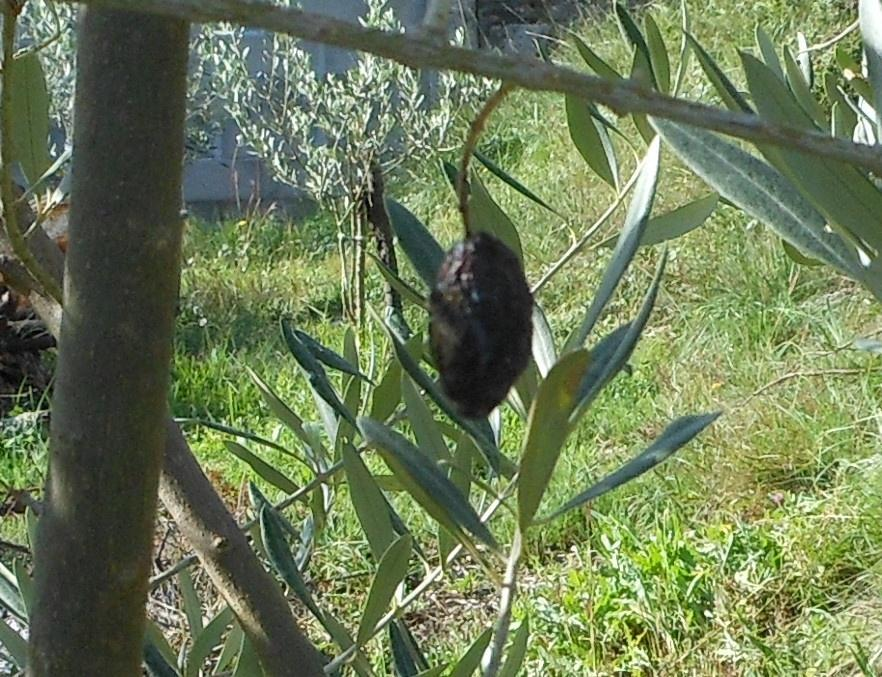Anthracnose: (423, 229, 537, 424)
